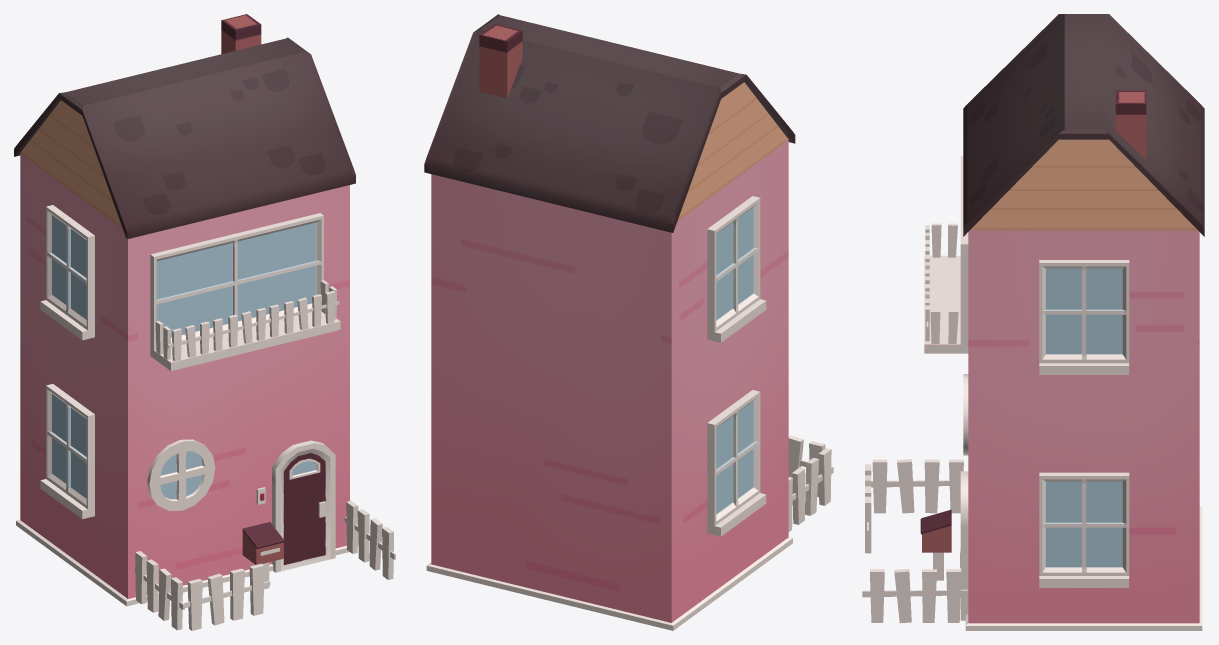
The model's file is house_1_upgrade.fbx.
3 renders of one model, left to right at view 1: azimuth 30°, elevation 25°; view 2: azimuth 150°, elevation 25°; view 3: azimuth 270°, elevation 25°, orthographic. The views are drawn at different scales.
Visible parts, largest first — view 1: house_1_5; view 2: house_1_5; view 3: house_1_5.
Boxes of the visible parts, x1,y1,x2,y2 form: house_1_5: (14,14,395,630); house_1_5: (424,14,833,630); house_1_5: (862,14,1204,630).
Bounding box in the file's own units: 5.42 × 10.16 × 6.1.
